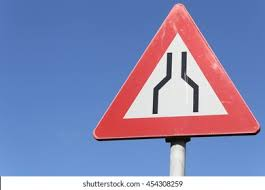narrow-road: (151, 49, 202, 119)
